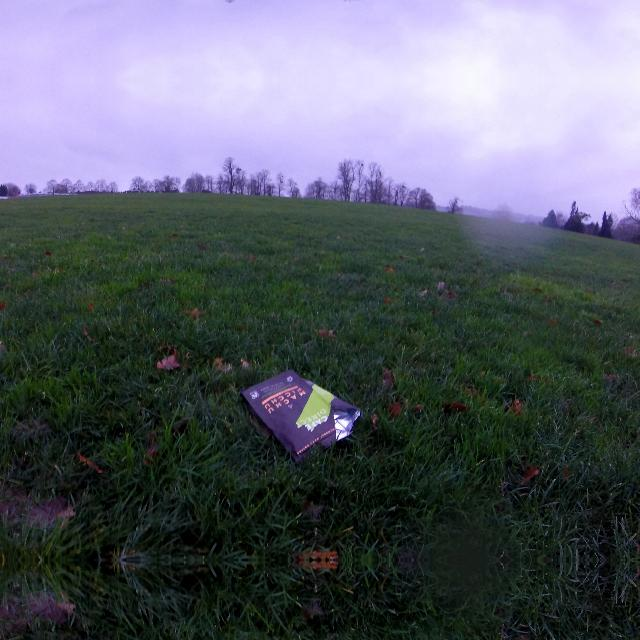Plastic: (234, 366, 376, 468)
